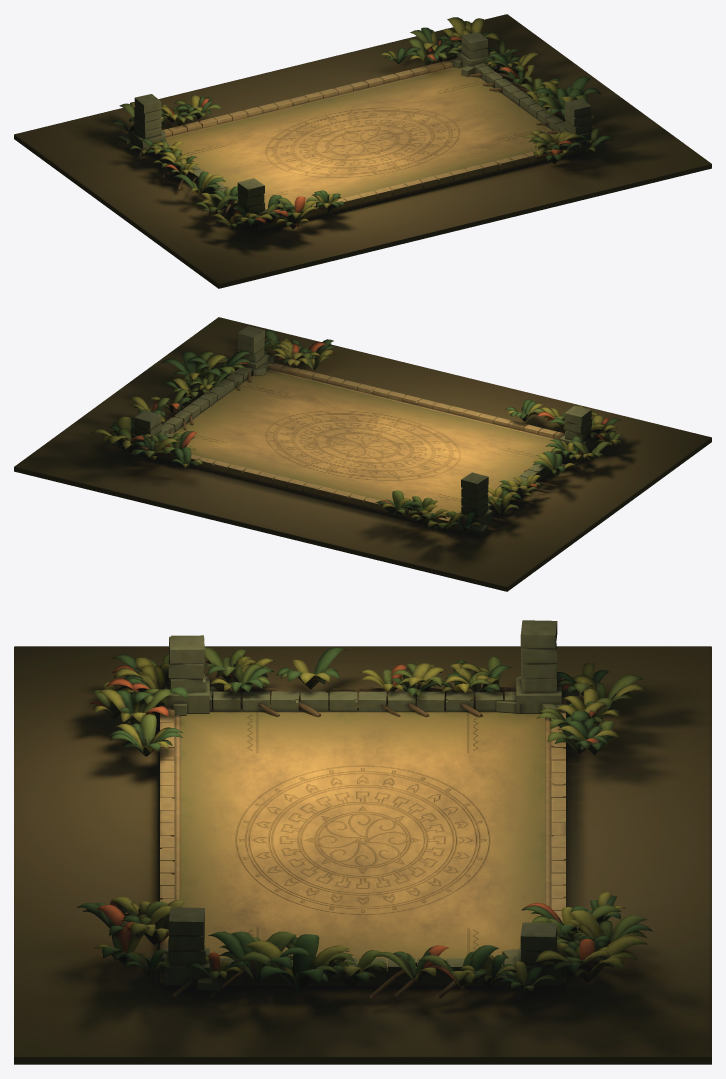
File: sandstone-arena.glb
3 renders of one model, top to bottom at view 1: azimuth 30°, elevation 25°; view 2: azimuth 150°, elevation 25°; view 3: azimuth 270°, elevation 25°, orthographic. The views are drawn at different scales.
Parts seen in each view (by area): view 1: sandstone-scenery, sandstone-floor; view 2: sandstone-scenery, sandstone-floor; view 3: sandstone-scenery, sandstone-floor.
Boxes of the visible parts, x1,y1,x2,y2 form: sandstone-scenery: [14, 14, 711, 288]; sandstone-floor: [166, 66, 556, 209]; sandstone-scenery: [14, 317, 711, 591]; sandstone-floor: [174, 370, 556, 517]; sandstone-scenery: [14, 620, 711, 1064]; sandstone-floor: [181, 712, 544, 968].
Bounding box in the file's own units: 32 × 3.5 × 23.
2 materials, 2 textured.
